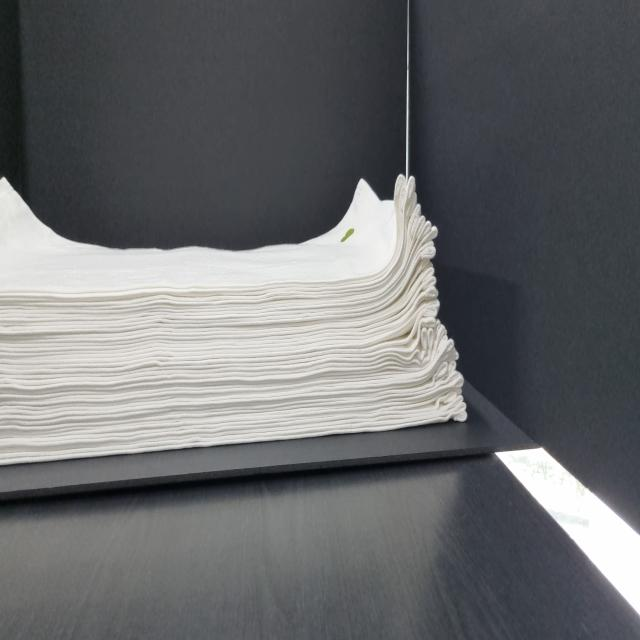not_50count_towel: (0, 157, 473, 486)
